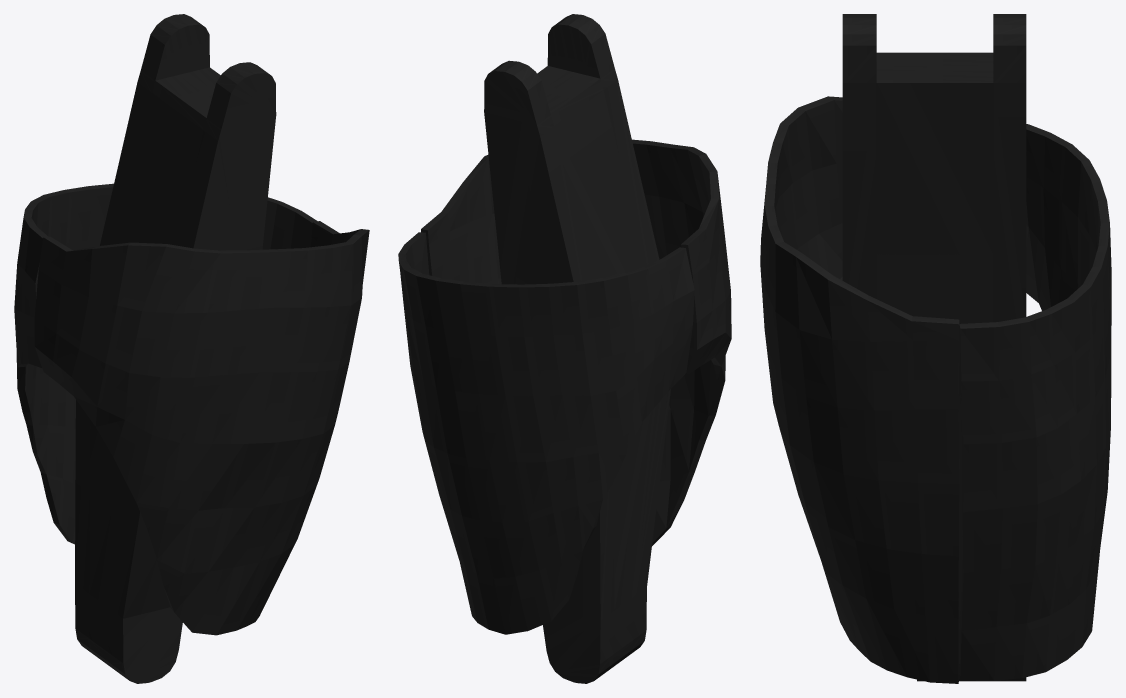
The model's file is r_uleg.dae.
The picture shows the model from 3 angles, left to right: view 1: azimuth 30°, elevation 25°; view 2: azimuth 150°, elevation 25°; view 3: azimuth 270°, elevation 25°; orthographic projection. The views are drawn at different scales.
Parts seen in each view (by area): view 1: node; view 2: node; view 3: node.
Part boxes in pixels (x1=…): node: x1=14, y1=14, x2=369, y2=683; node: x1=398, y1=14, x2=731, y2=683; node: x1=760, y1=14, x2=1111, y2=683.
Bounding box in the file's own units: 0.2001 × 0.1865 × 0.4091.
